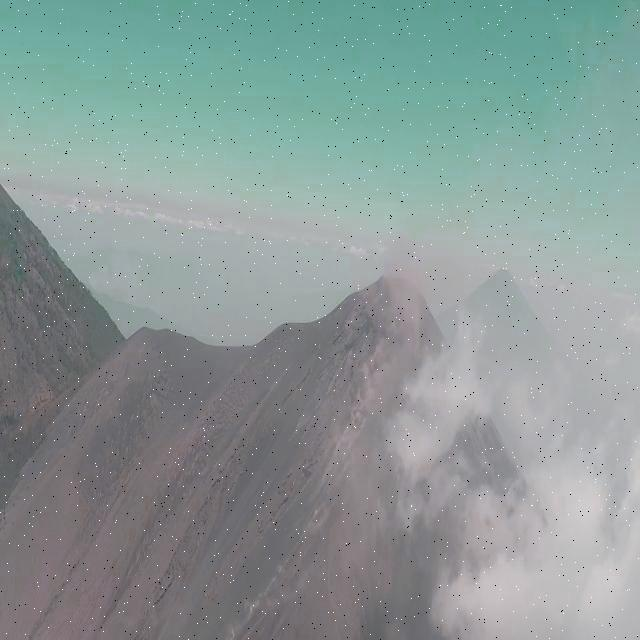Summit: (250, 248, 486, 416)
